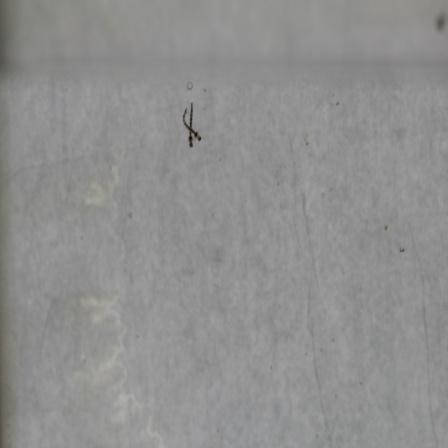Jentik-Nyamuk: (179, 100, 204, 151)
